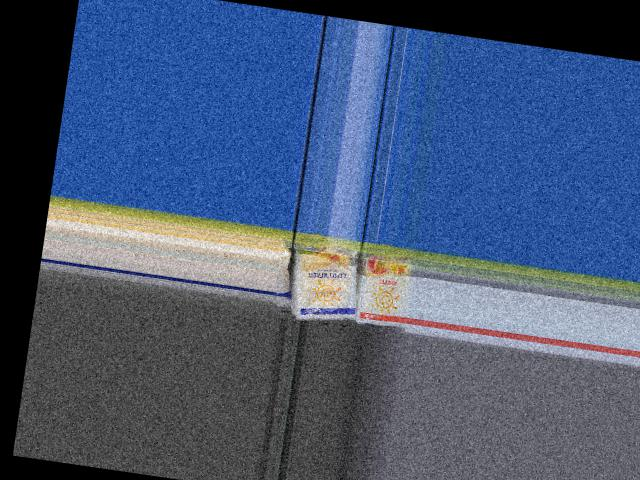cheese: (353, 241, 420, 334)
